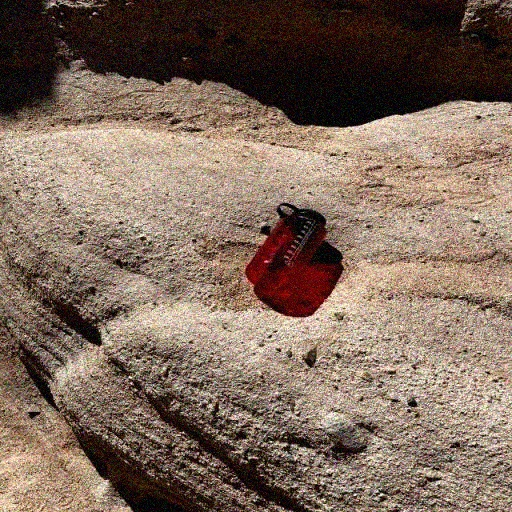bottle: (246, 203, 326, 292)
